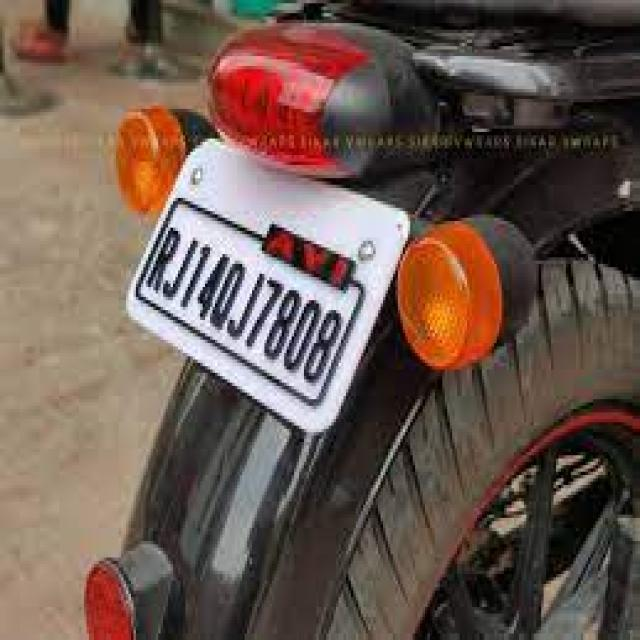license_plate: (124, 132, 410, 435)
